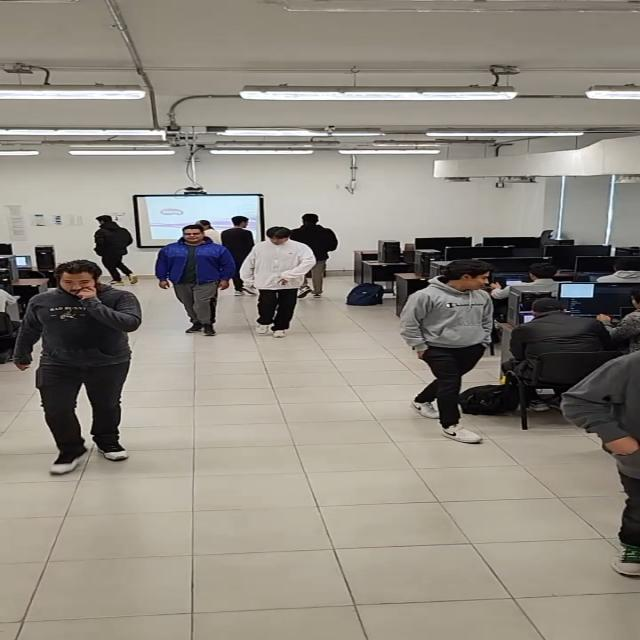Persona: (11, 262, 142, 478), (397, 257, 511, 446), (157, 223, 231, 338), (251, 224, 310, 338), (296, 211, 338, 304), (91, 209, 139, 285), (222, 211, 250, 295)
